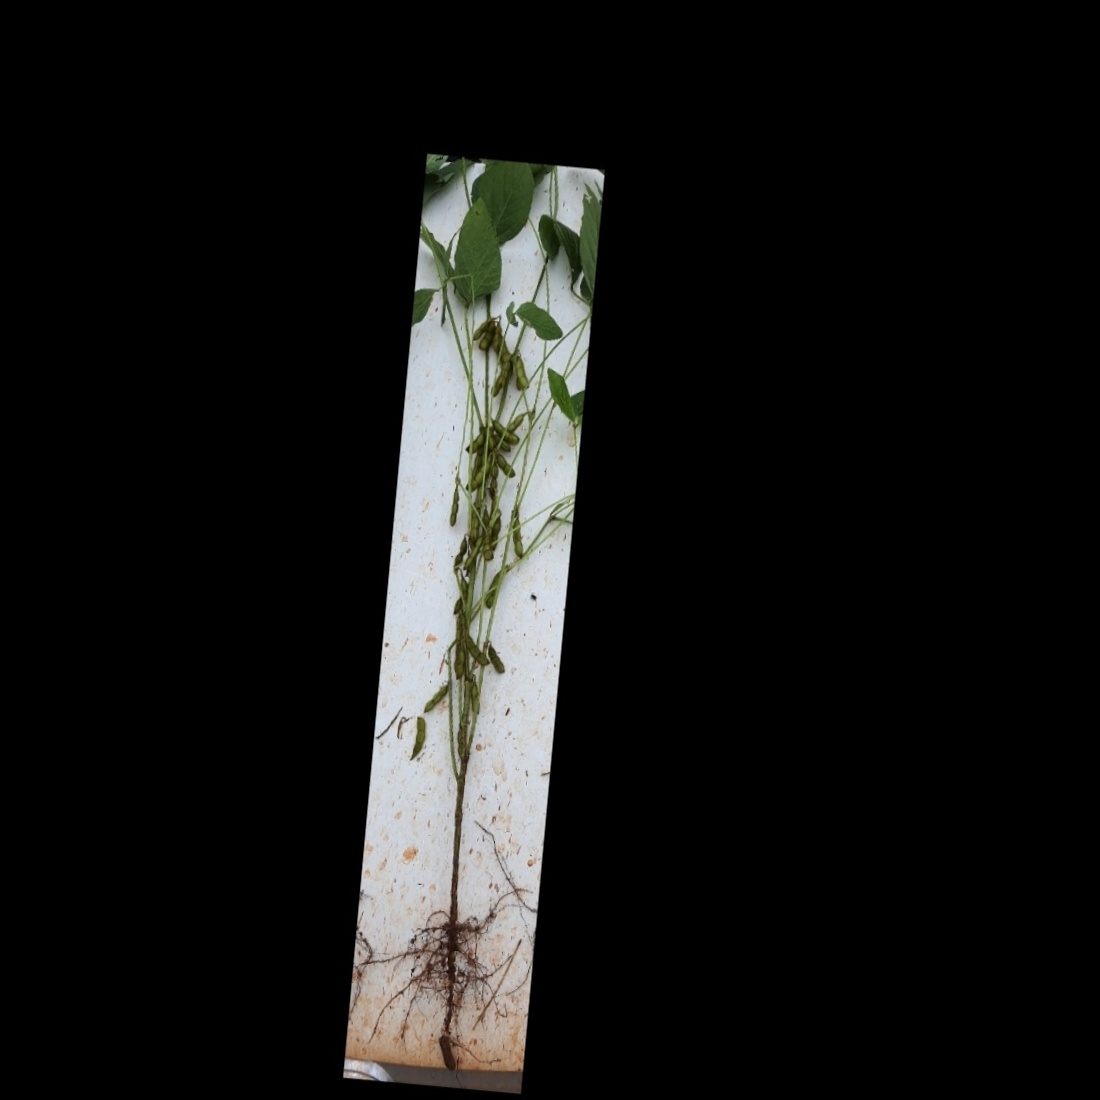pod: (505, 502, 532, 563), (459, 528, 488, 577), (405, 713, 431, 764), (479, 640, 512, 677), (443, 485, 468, 532), (509, 348, 534, 395), (420, 678, 450, 716), (459, 635, 492, 669), (486, 420, 524, 448), (490, 448, 520, 482), (476, 316, 501, 356)
soy: (353, 166, 598, 1001)
